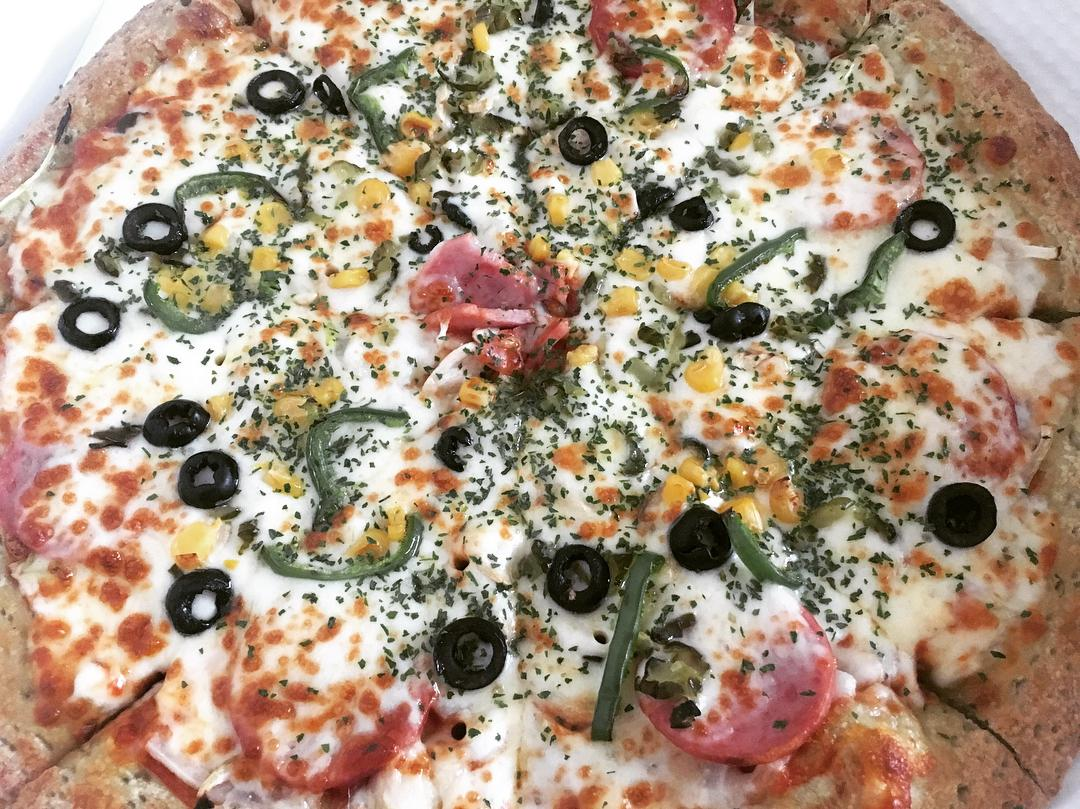Ham: (229, 592, 439, 792), (638, 594, 837, 765), (828, 330, 1027, 483), (410, 240, 576, 367), (0, 414, 145, 550), (831, 114, 925, 228), (591, 0, 737, 73)
Olives: (435, 618, 508, 689), (927, 483, 997, 548), (166, 569, 231, 637), (545, 547, 611, 613), (669, 505, 732, 569), (178, 451, 239, 507), (895, 200, 956, 253), (144, 400, 210, 448), (123, 205, 184, 254), (62, 299, 121, 344), (707, 302, 771, 341), (559, 116, 608, 165), (249, 71, 304, 113), (314, 74, 348, 119), (670, 197, 713, 231), (436, 428, 469, 472), (444, 202, 477, 233), (635, 186, 670, 214), (409, 226, 444, 254), (532, 0, 554, 32)
Peppers: (589, 546, 658, 748), (706, 225, 810, 309), (349, 44, 416, 152), (834, 230, 909, 315), (261, 544, 426, 582), (306, 408, 351, 543), (733, 509, 802, 591), (628, 47, 693, 118), (143, 279, 223, 334), (172, 171, 283, 204)
Pizza: (0, 0, 1080, 809)
